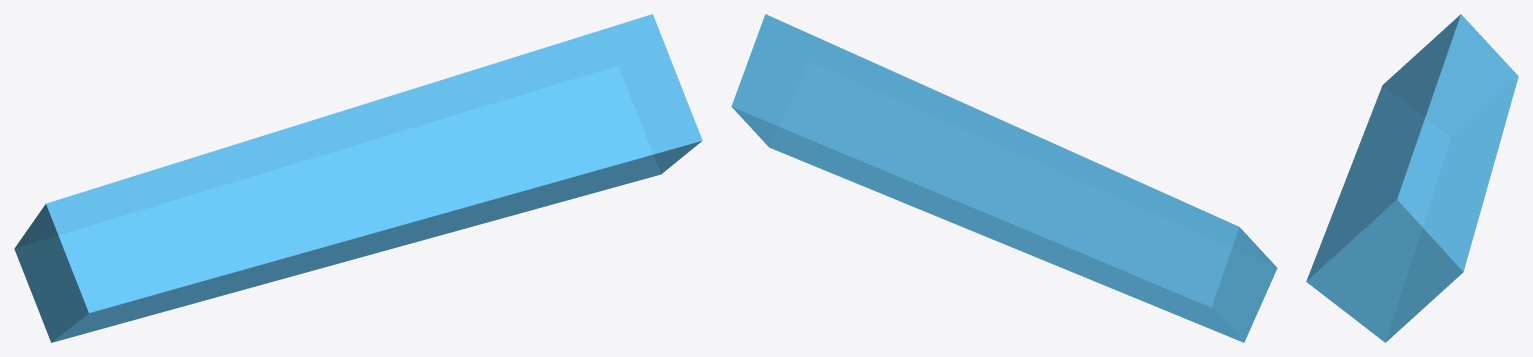
Rendered from Event_421115418_HErechit_94.fbx.
3 views of the same model, side by side, from view 1: azimuth 30°, elevation 25°; view 2: azimuth 150°, elevation 25°; view 3: azimuth 270°, elevation 25° (orthographic). The views are drawn at different scales.
Parts seen in each view (by area): view 1: Model; view 2: Model; view 3: Model.
Part boxes in pixels (<box>): Model: <box>14,14,702,342</box>; Model: <box>731,14,1277,342</box>; Model: <box>1306,14,1518,342</box>.
Bounding box in the file's own units: 1.67 × 0.5861 × 0.5861.
